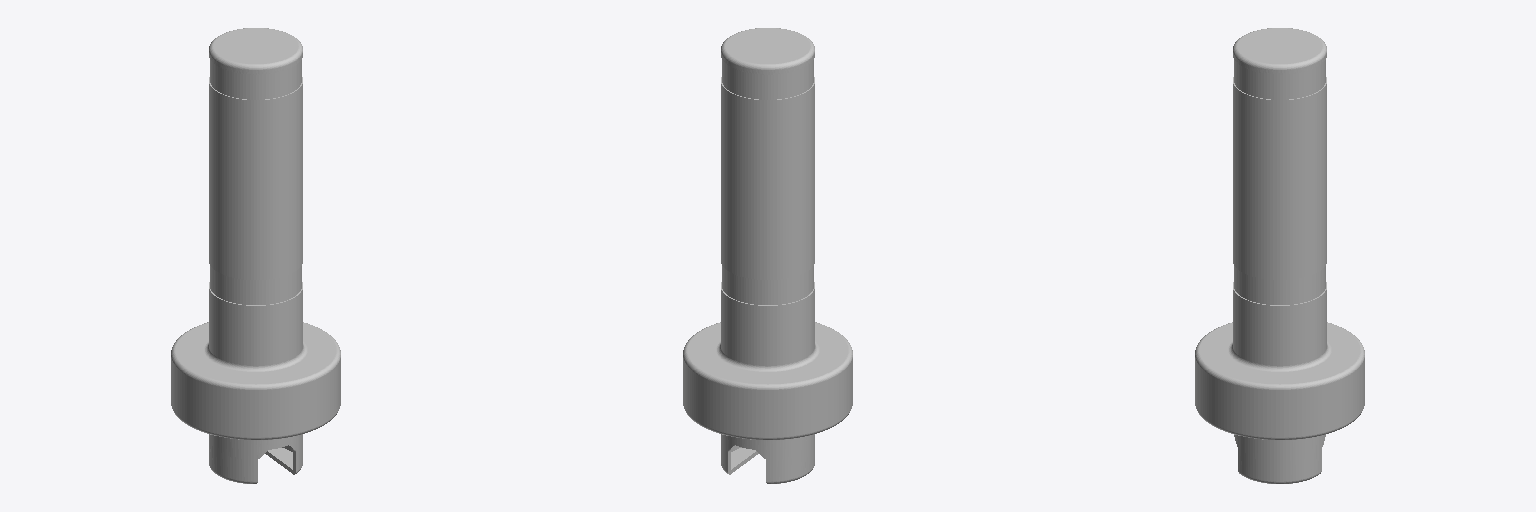
File: Buoy 46104 White.obj
3 views of the same model, side by side, from view 1: azimuth 30°, elevation 25°; view 2: azimuth 150°, elevation 25°; view 3: azimuth 270°, elevation 25° (orthographic).
Parts seen in each view (by area): view 1: Buoy_46104_White; view 2: Buoy_46104_White; view 3: Buoy_46104_White.
Boxes of the visible parts, <box> form: Buoy_46104_White: <box>171,28,340,483</box>; Buoy_46104_White: <box>683,28,852,483</box>; Buoy_46104_White: <box>1195,28,1364,483</box>.
Bounding box in the file's own units: 2.75 × 7.5 × 2.75.